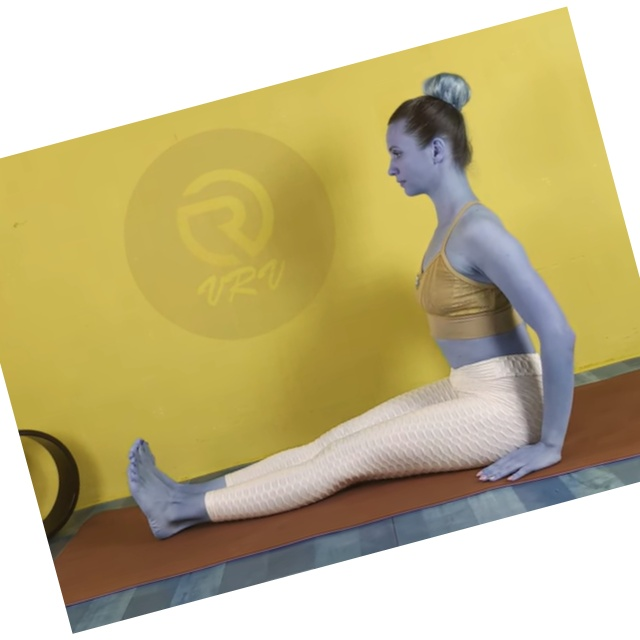Staff_Pose: (118, 91, 576, 540)
